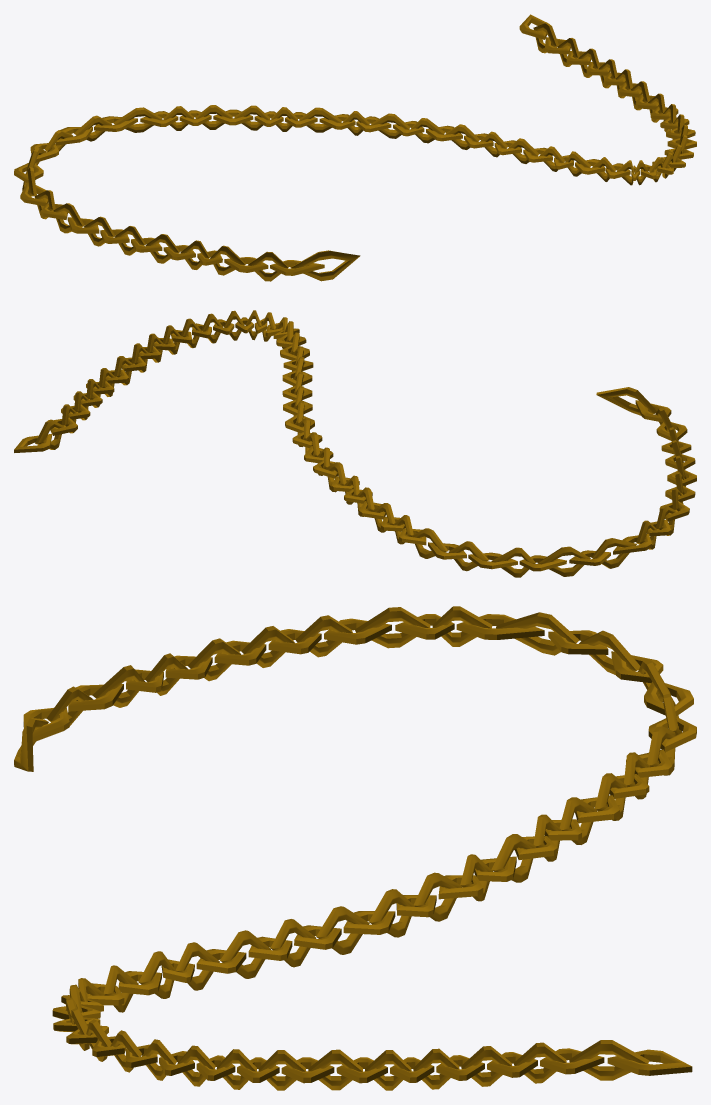
Rendered from Cadenas en n.fbx.
3 renders of one model, top to bottom at view 1: azimuth 30°, elevation 25°; view 2: azimuth 150°, elevation 25°; view 3: azimuth 270°, elevation 25°, orthographic. The views are drawn at different scales.
Visible parts, largest first — view 1: Cadenas8; view 2: Cadenas8; view 3: Cadenas8.
Part boxes in pixels (box(x1,y1,x2,y2)): Cadenas8: box(14, 14, 696, 281); Cadenas8: box(14, 310, 696, 577); Cadenas8: box(14, 606, 696, 1090).
Size of the model in its own units: 45.2 by 1.97 by 28.14.
